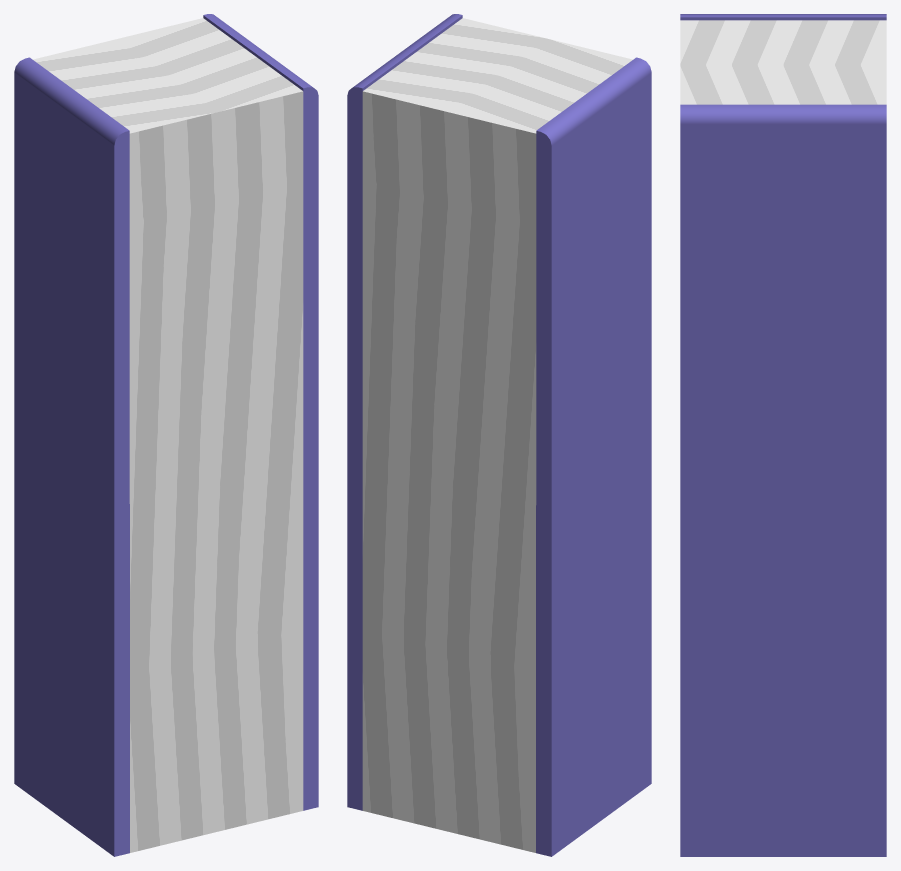
Rendered from Road(Clone).fbx.
3 renders of one model, left to right at view 1: azimuth 30°, elevation 25°; view 2: azimuth 150°, elevation 25°; view 3: azimuth 270°, elevation 25°, orthographic. The views are drawn at different scales.
Visible parts, largest first — view 1: road; view 2: road; view 3: road.
Boxes of the visible parts, bbox=[...] form: road: bbox=[14, 14, 318, 856]; road: bbox=[347, 14, 651, 856]; road: bbox=[680, 14, 886, 856].
Size of the model in its own units: 7.21 by 24.33 by 6.11.
Materials: 2 (1 with a texture image).
